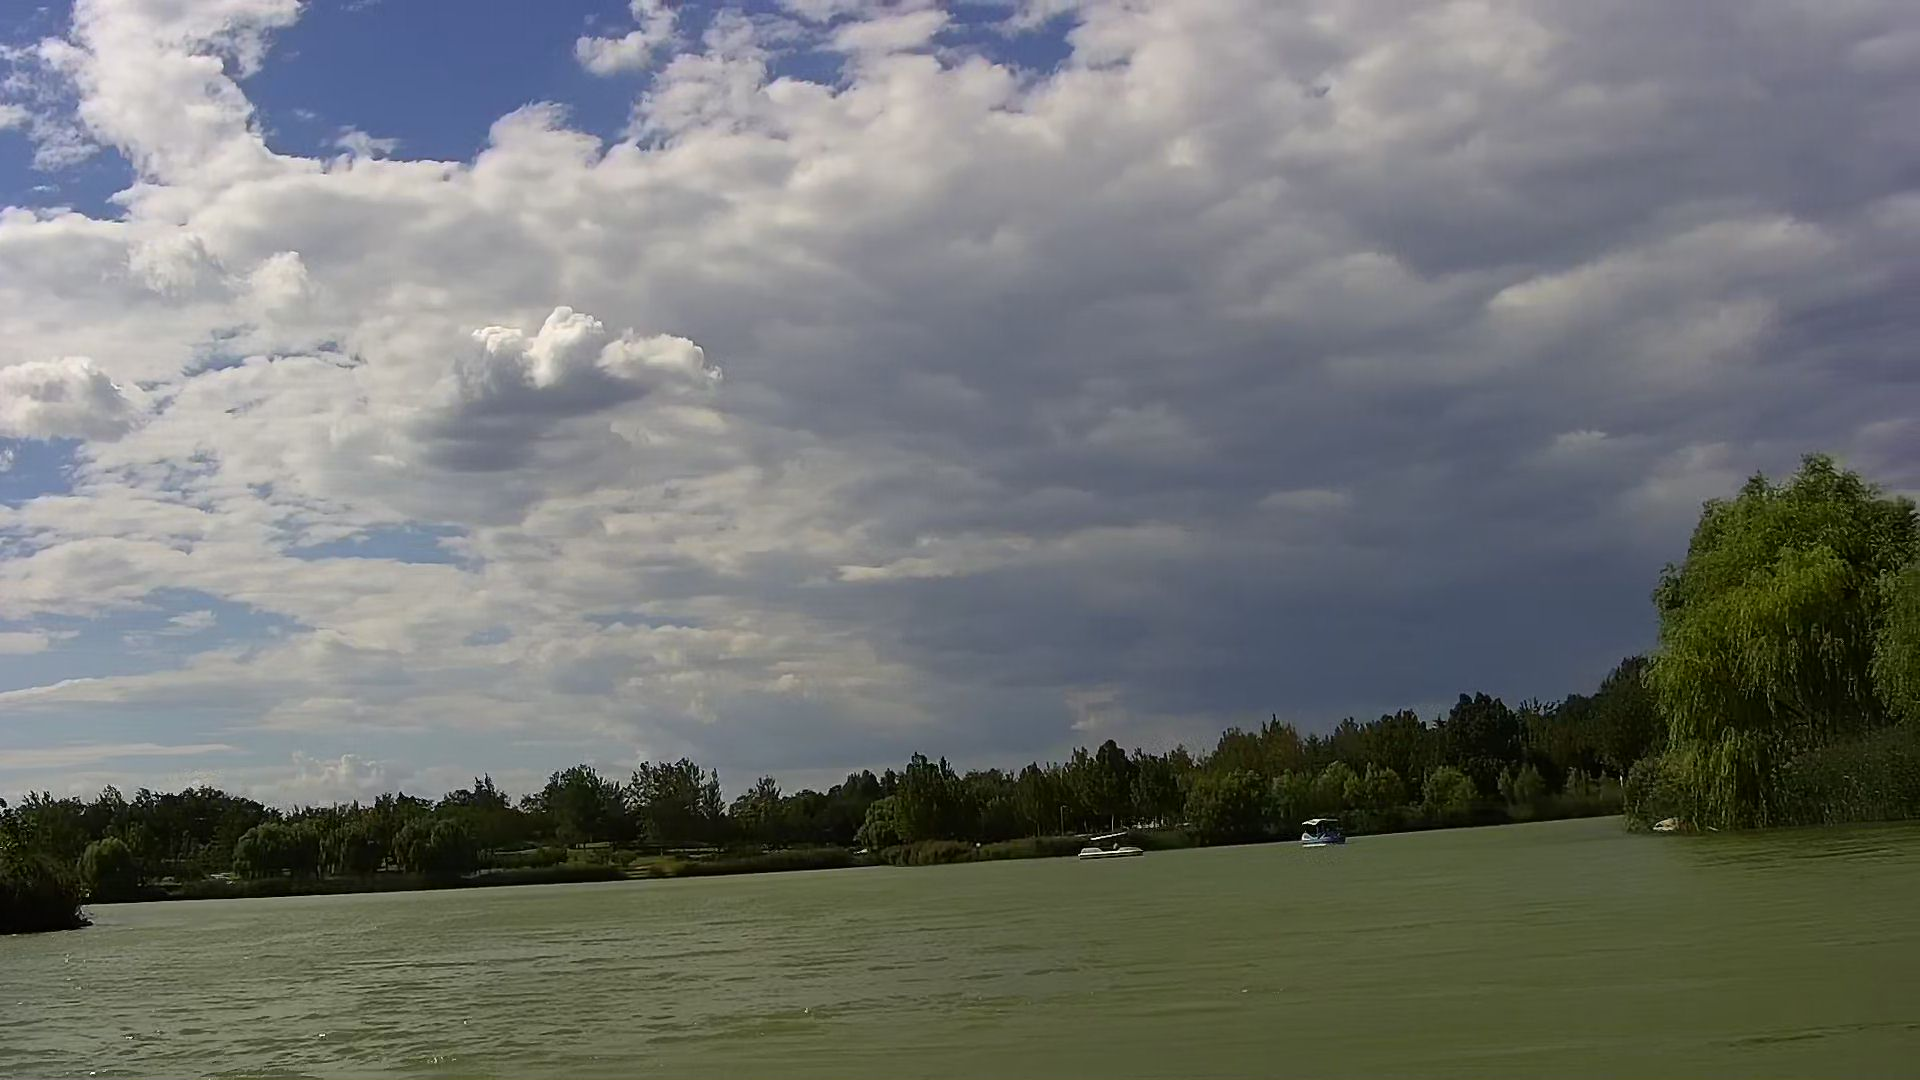boat: (1080, 831, 1142, 861), (1299, 818, 1350, 848)
rock: (1652, 818, 1687, 836)
